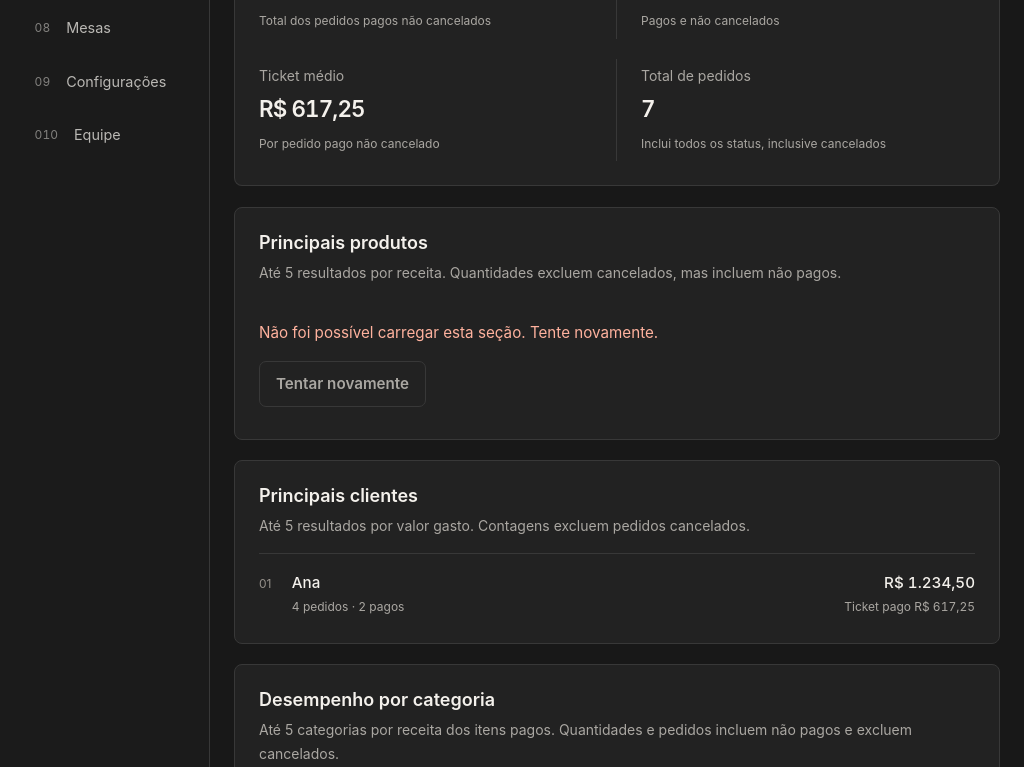
Test: Dashboard overview › isolates errors and retries just the failed section
This screenshot has width=1024, height=767.
(page scrolled)
Expected: the message "Não foi possível carregar esta seção. Tente novamente." is shown, [259,323,658,342]
Expected: the text "Ana" is shown, [292,573,320,592]
Click the button named "Tentar novamente — Principais produtos" at (342, 384), box [259,361,426,407]
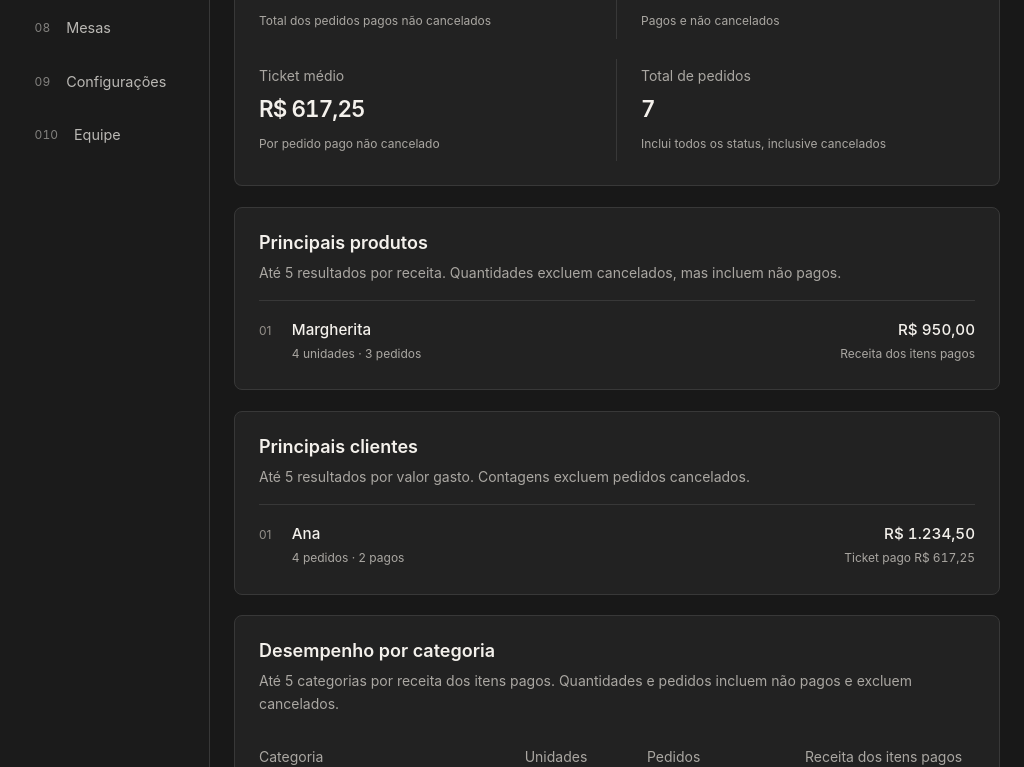
Result: the text "Margherita" is shown at [292,320,371,339]
